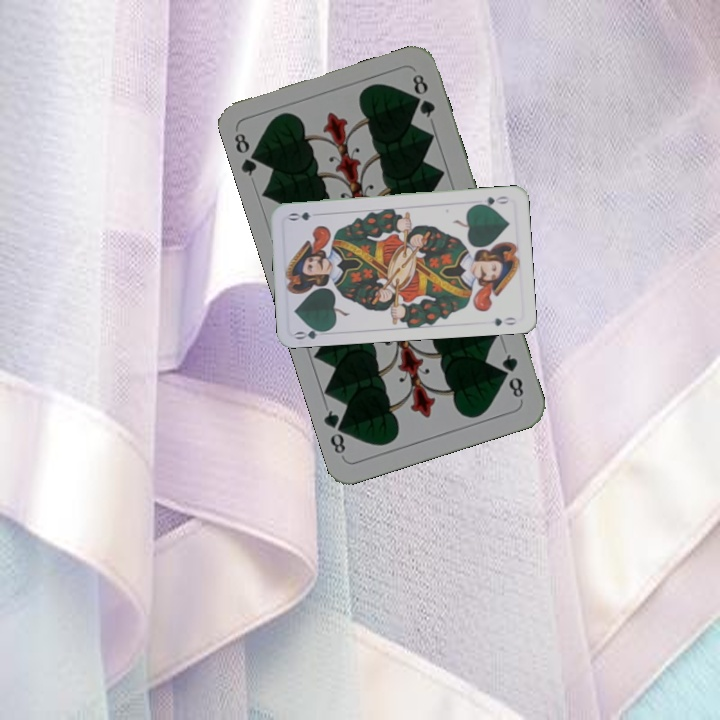G8: (230, 129, 266, 179), (498, 350, 527, 403)
GO: (292, 323, 332, 342), (472, 192, 512, 210)
